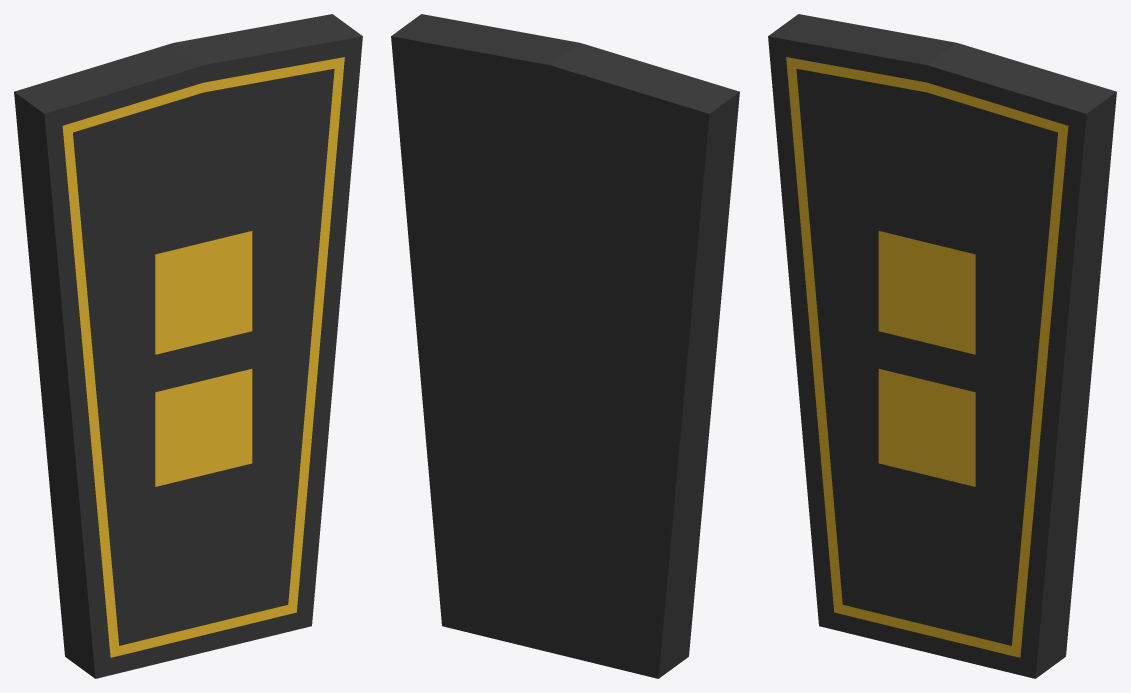
The model's file is Asian_Prop_Torii_Gate_Badge_01.FBX.
3 views of the same model, side by side, from view 1: azimuth 30°, elevation 25°; view 2: azimuth 150°, elevation 25°; view 3: azimuth 330°, elevation 25° (orthographic).
Parts seen in each view (by area): view 1: Asian_Prop_Torii_Gate_Badge_01; view 2: Asian_Prop_Torii_Gate_Badge_01; view 3: Asian_Prop_Torii_Gate_Badge_01.
Boxes of the visible parts, bbox=[...] form: Asian_Prop_Torii_Gate_Badge_01: bbox=[14, 14, 362, 678]; Asian_Prop_Torii_Gate_Badge_01: bbox=[391, 14, 739, 678]; Asian_Prop_Torii_Gate_Badge_01: bbox=[768, 14, 1116, 678].
Bounding box in the file's own units: 1043 × 1837 × 173.
